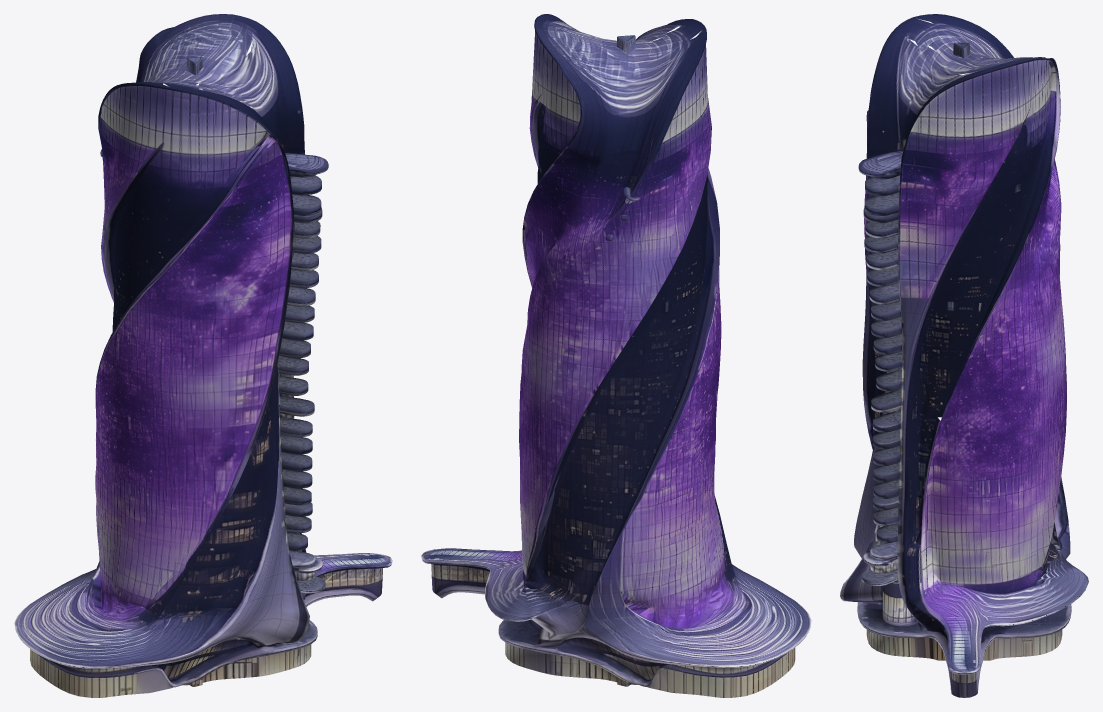
Rendered from town-purple-twin.1024.glb.
3 views of the same model, side by side, from view 1: azimuth 30°, elevation 25°; view 2: azimuth 150°, elevation 25°; view 3: azimuth 270°, elevation 25° (orthographic). The views are drawn at different scales.
Visible parts, largest first — view 1: tripo_54af438a_0d41_4aa9_80a8_44d46a6970ce; view 2: tripo_54af438a_0d41_4aa9_80a8_44d46a6970ce; view 3: tripo_54af438a_0d41_4aa9_80a8_44d46a6970ce.
Boxes of the visible parts, x1=… form: tripo_54af438a_0d41_4aa9_80a8_44d46a6970ce: x1=14, y1=14, x2=392, y2=697; tripo_54af438a_0d41_4aa9_80a8_44d46a6970ce: x1=421, y1=14, x2=811, y2=697; tripo_54af438a_0d41_4aa9_80a8_44d46a6970ce: x1=840, y1=14, x2=1088, y2=697.
Bounding box in the file's own units: 0.6284 × 0.9995 × 0.3853.
Materials: 1 (1 with a texture image).
